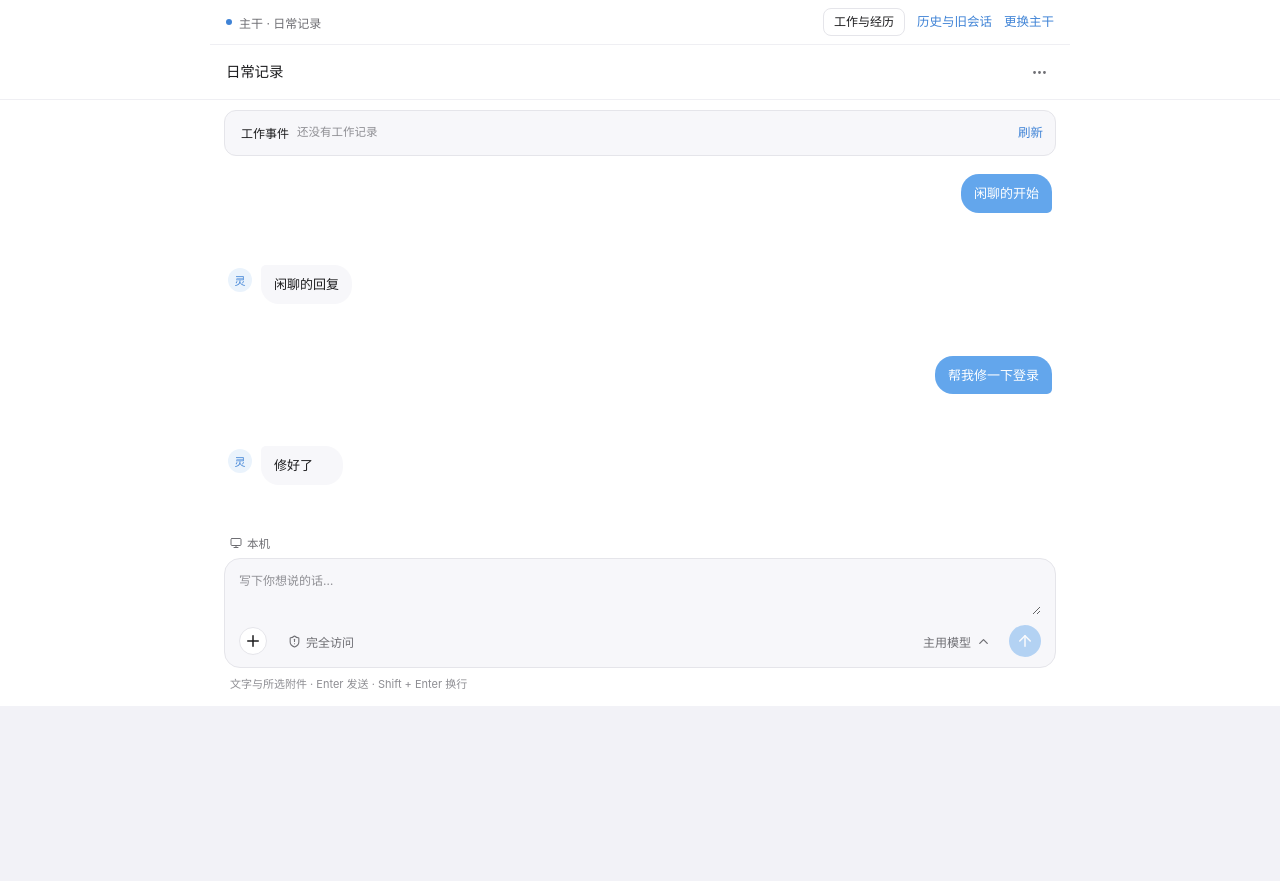
Test: 开始工作用轻量标题，未结束前不显示完成/折叠入口
Check: the text "闲聊的开始" is shown, box [961,174,1052,213]
Click the button "工作事件 还没有工作记录" at x=265, y=134, box [237,120,1010,146]
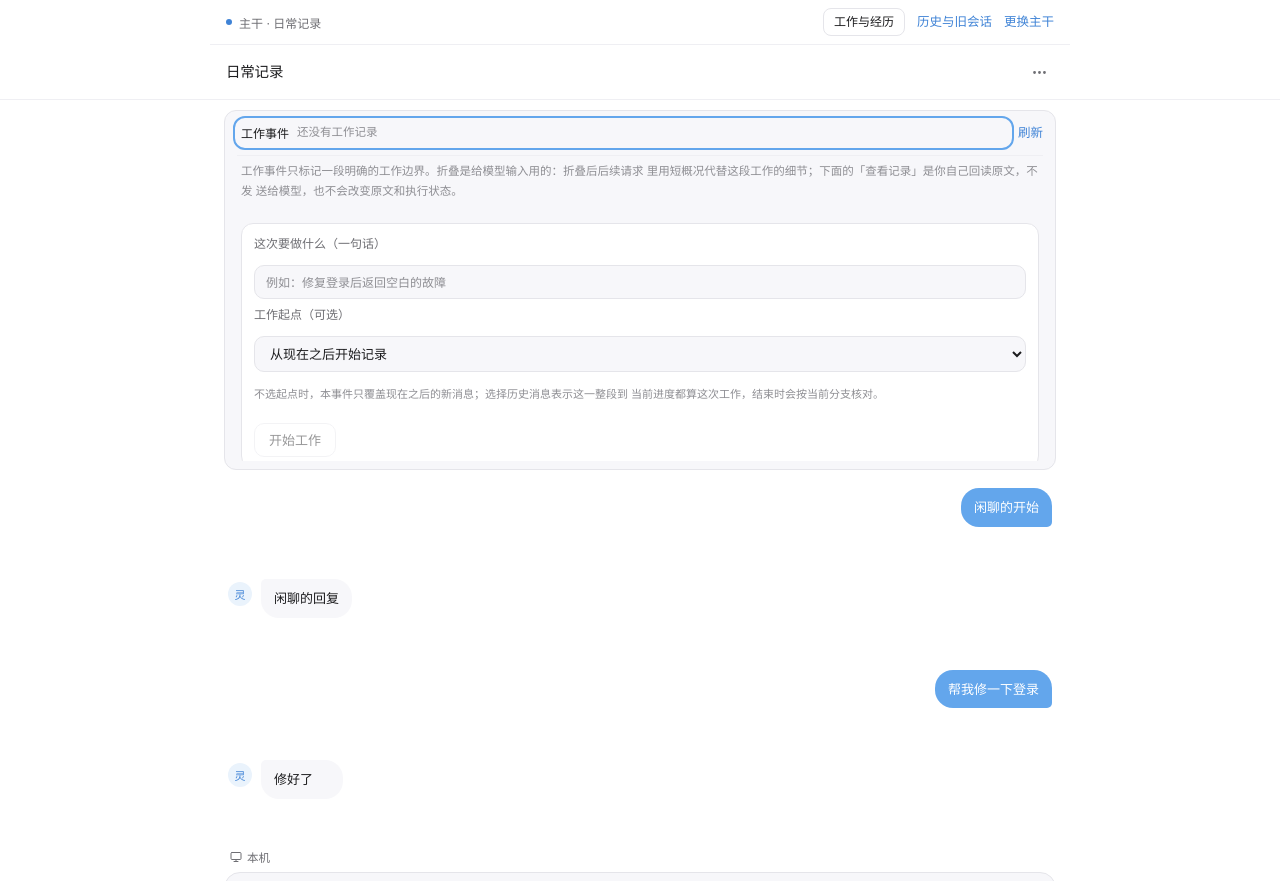
Type "修复登录故障" into the field labelled "这次要做什么（一句话）" at x=640, y=282, box [254,265,1026,299]
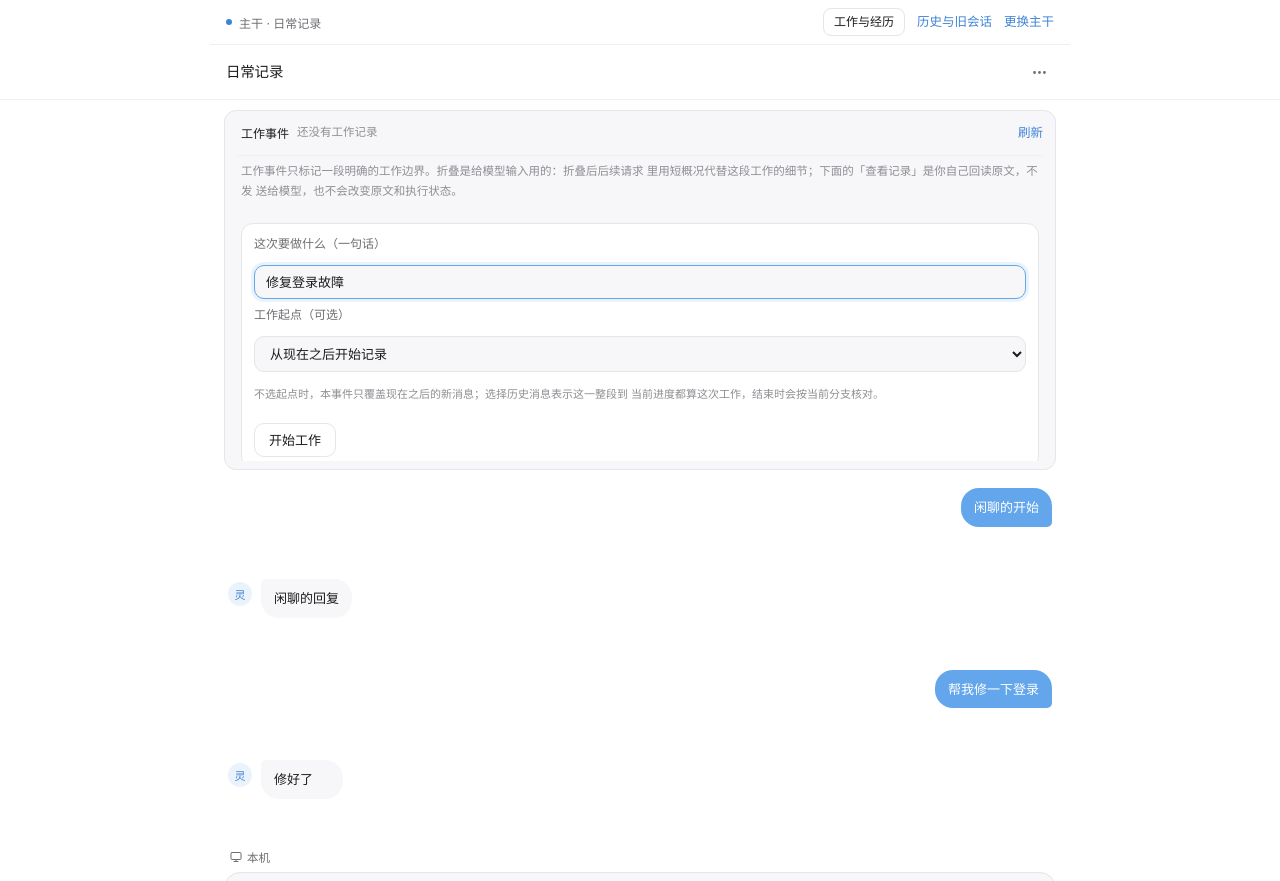
Click the button "开始工作" at x=295, y=440, box [254,423,336,457]
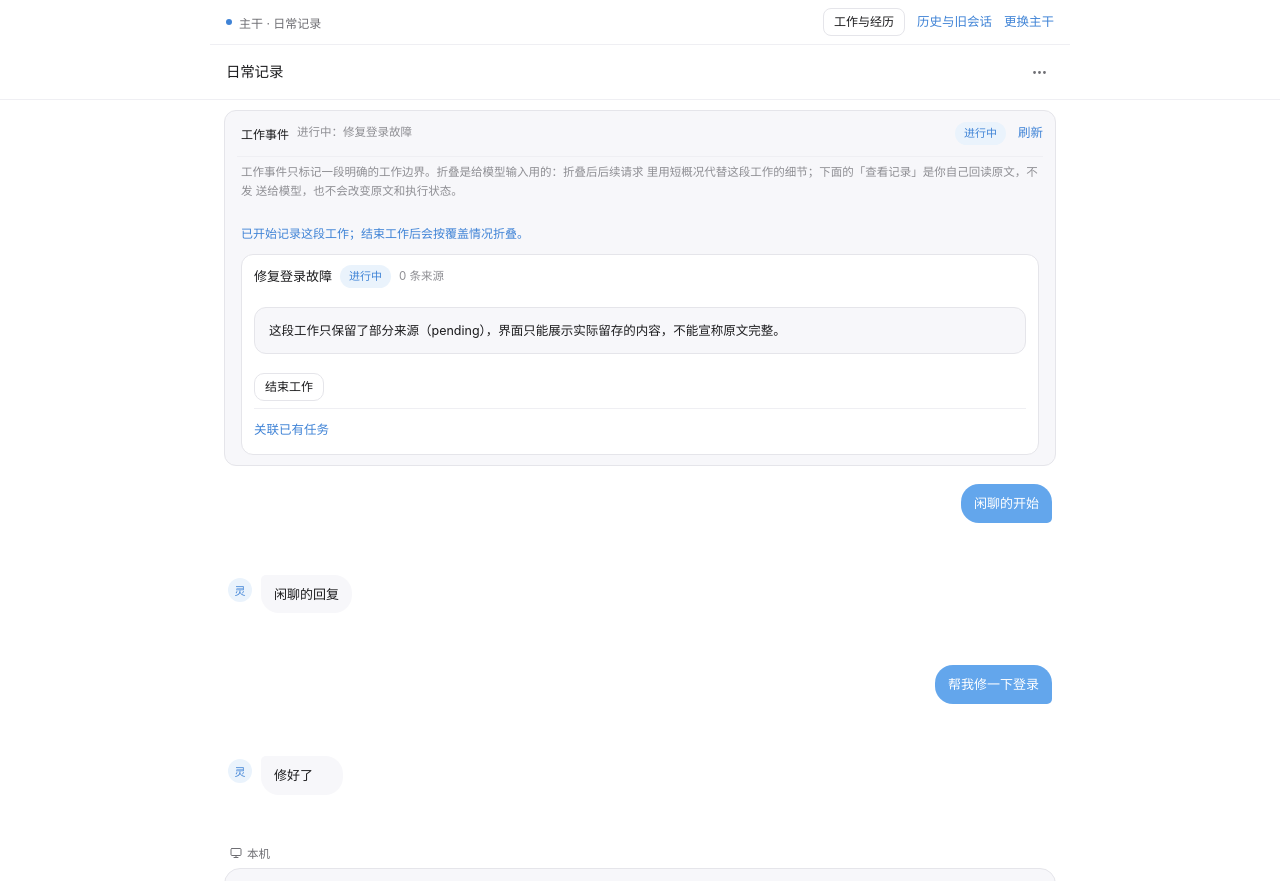
Check: the text "帮我修一下登录" is shown, box [935,665,1052,704]
Check: the button "结束工作" is enabled, box [254,373,324,401]
Check: the heading "修复登录故障" is shown, box [254,266,332,287]
